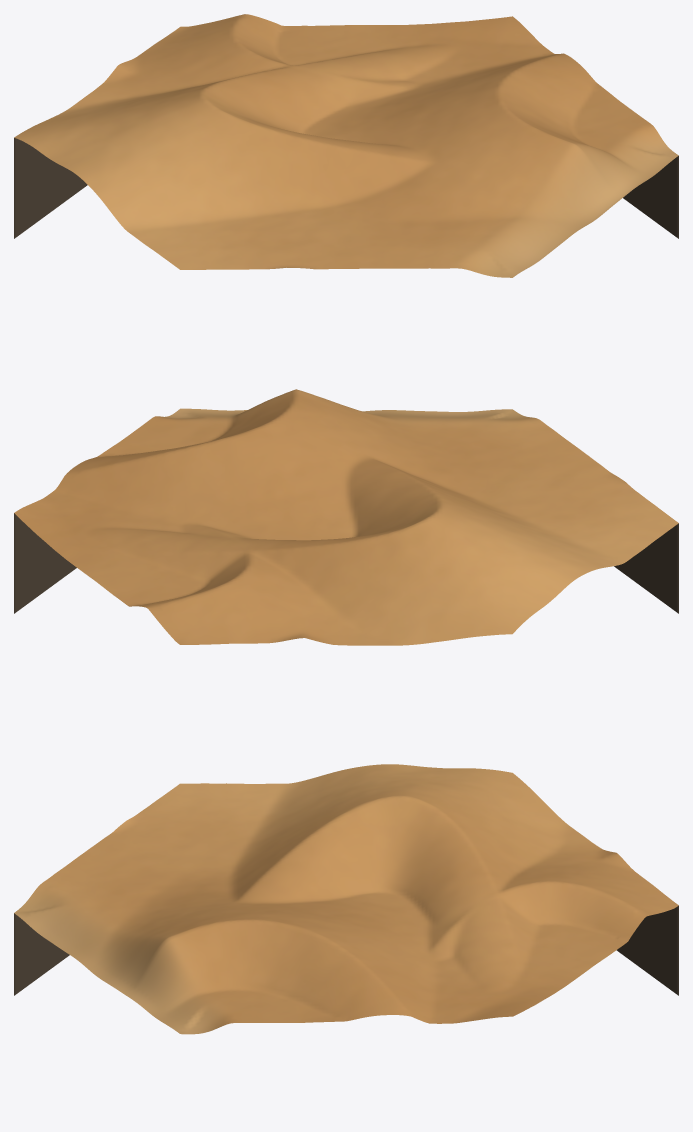
3 renders of one model, top to bottom at view 1: azimuth 30°, elevation 25°; view 2: azimuth 150°, elevation 25°; view 3: azimuth 270°, elevation 25°, orthographic.
Parts seen in each view (by area): view 1: terrain, hex_side_cut; view 2: terrain, hex_side_cut; view 3: terrain, hex_side_cut.
Part boxes in pixels (x1,y1,x2,y2): terrain: (14,14,678,277); hex_side_cut: (14,137,678,238); terrain: (14,389,678,645); hex_side_cut: (14,513,678,613); terrain: (14,764,678,1034); hex_side_cut: (14,905,678,995).
Bounding box in the file's own units: 4330 × 1203 × 5000.
